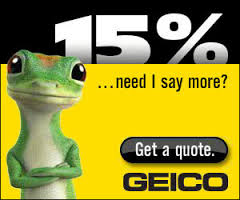Geico: (119, 170, 230, 192)
